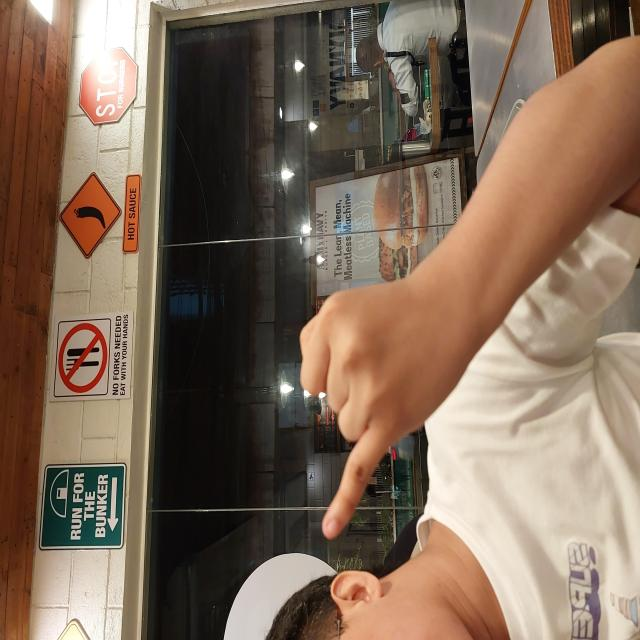J: (98, 298, 360, 470)
